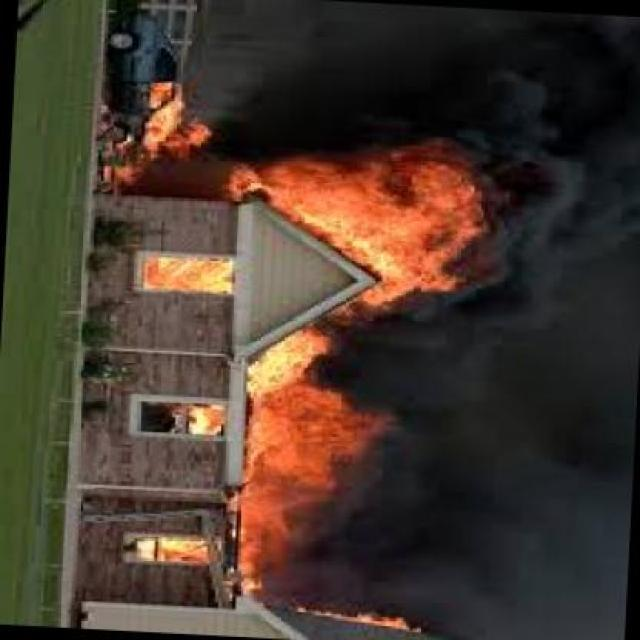Fire: (234, 152, 486, 296), (227, 390, 406, 492), (94, 84, 217, 179), (234, 481, 301, 601), (129, 244, 246, 308), (242, 320, 350, 388), (116, 522, 216, 574), (170, 402, 230, 436)
Smoke: (418, 353, 631, 634), (477, 29, 640, 330), (240, 22, 428, 112), (312, 516, 410, 606)
